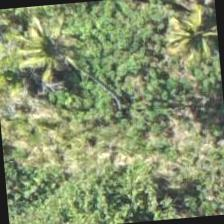Kelapa_Sawit: (48, 33, 146, 131), (151, 0, 222, 79)
